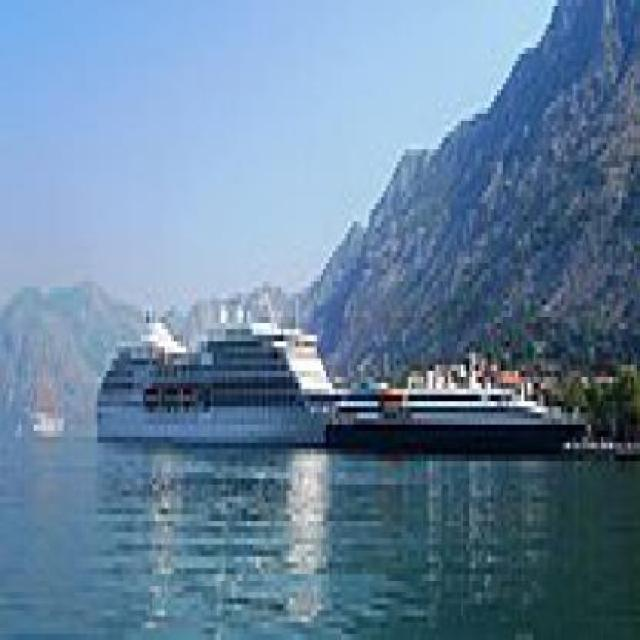cruise: (89, 283, 343, 461)
